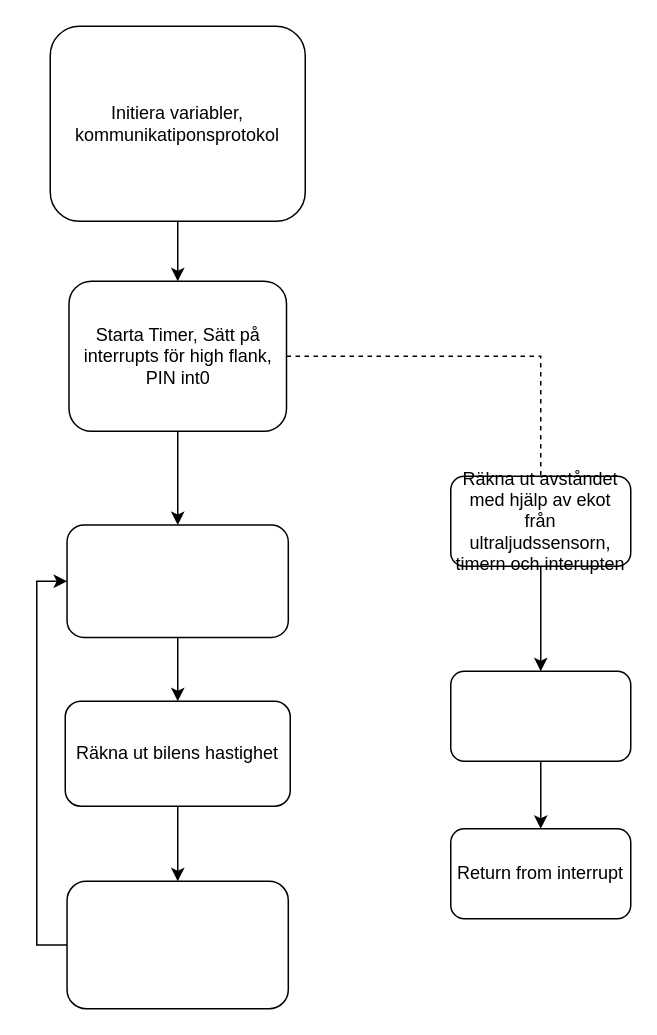
This 657x1035 diagram has some shape labels left out. Here are the shapes that lost their labels. From the top down, the centre of each, then its label:
At [177,581]: "Samla data från hallsensorerna".
At [540,715]: "Återställ timern".
At [177,944]: "Skicka data till kommunikationsmodulen".
